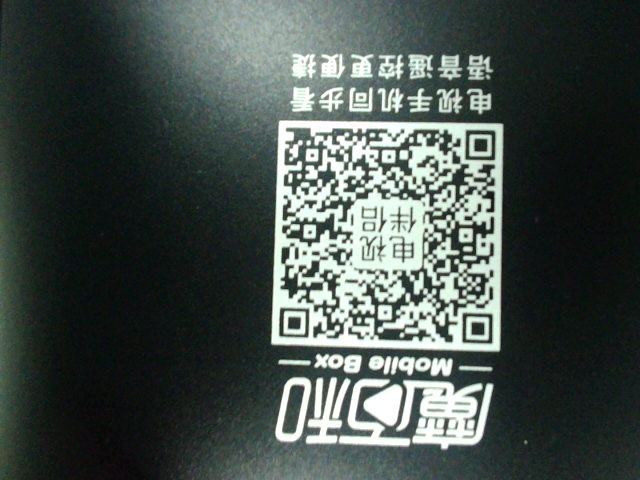AZ_MobileBox: (263, 46, 515, 451)
